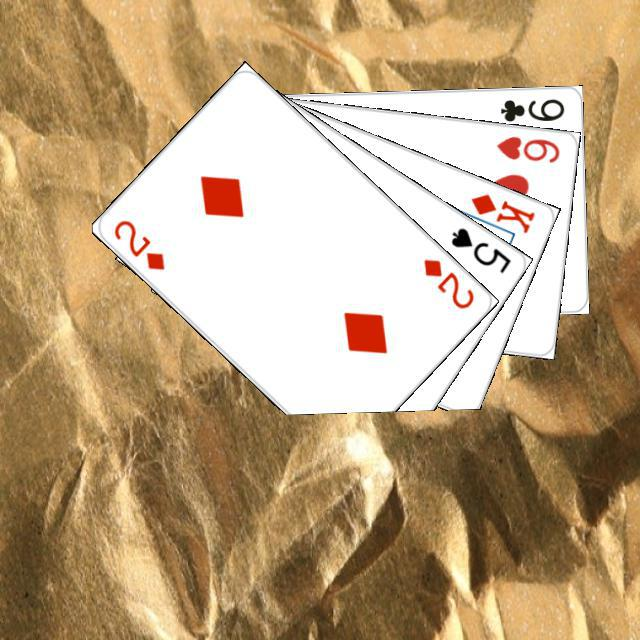2d: (418, 253, 476, 311), (108, 215, 167, 272)
5s: (446, 222, 513, 275)
6h: (491, 131, 561, 165)
9c: (496, 93, 566, 124)
Kd: (466, 188, 537, 235)
